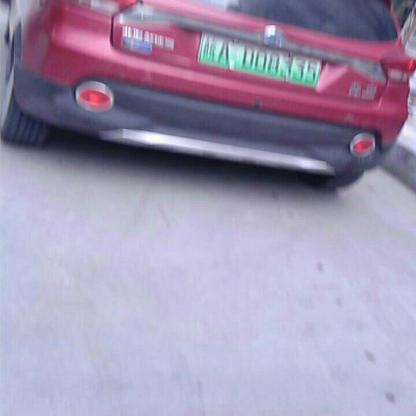lp: (200, 31, 322, 59)
